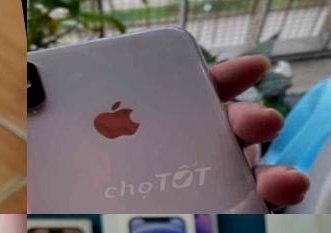scratch: (27, 107, 50, 124)
